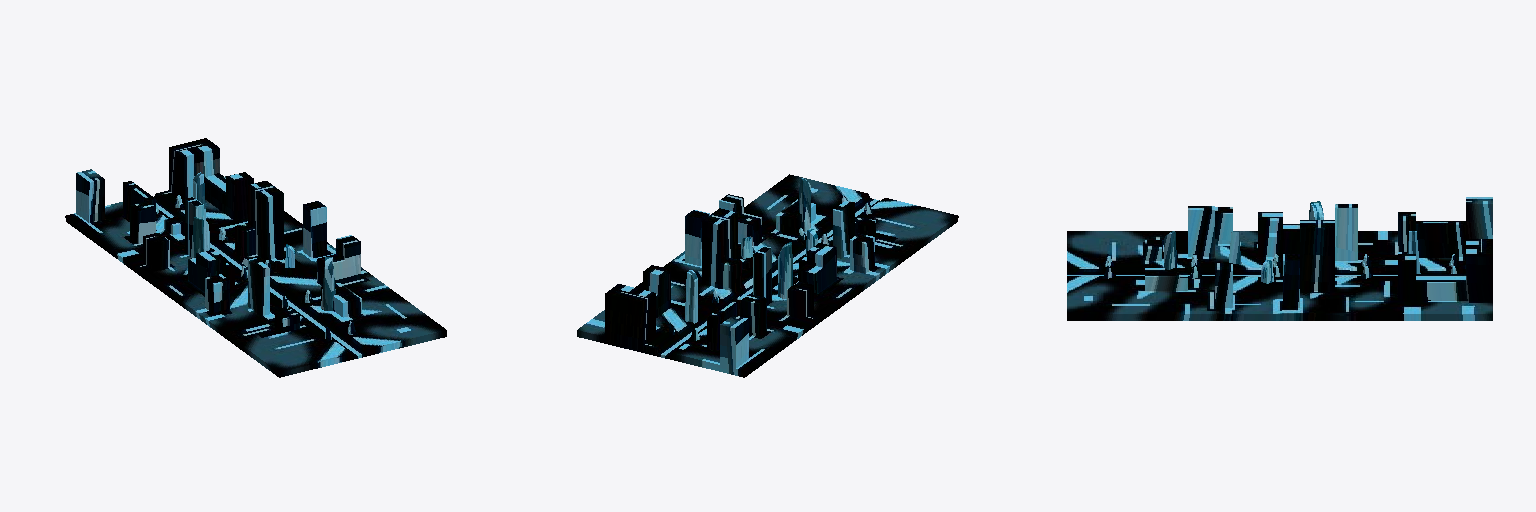
3 views of the same model, side by side, from view 1: azimuth 30°, elevation 25°; view 2: azimuth 150°, elevation 25°; view 3: azimuth 270°, elevation 25° (orthographic).
Visible parts, largest first — view 1: polySurface1; view 2: polySurface1; view 3: polySurface1.
Boxes of the visible parts, <box> form: polySurface1: <box>65,138,446,377</box>; polySurface1: <box>577,174,958,377</box>; polySurface1: <box>1067,197,1492,320</box>.
Bounding box in the file's own units: 844 × 437 × 1834.
Materials: 1 (1 with a texture image).